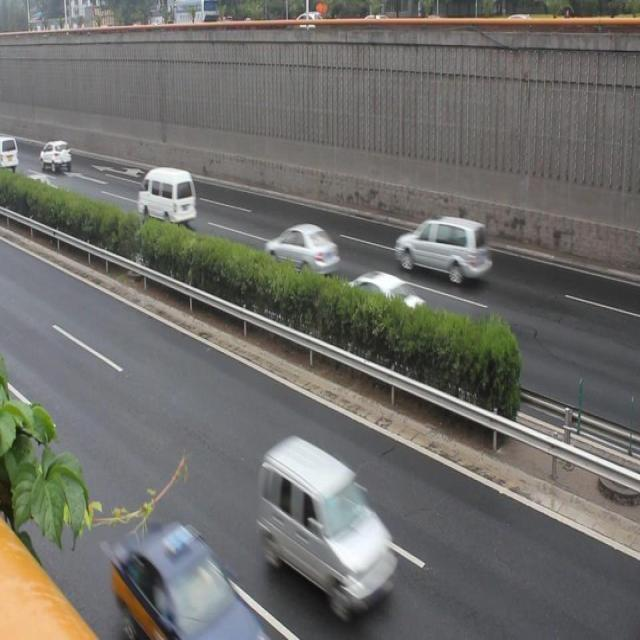car: (249, 429, 394, 612), (110, 511, 272, 640), (343, 264, 422, 328), (266, 219, 349, 279)
truck: (393, 205, 489, 286), (142, 159, 196, 233)
